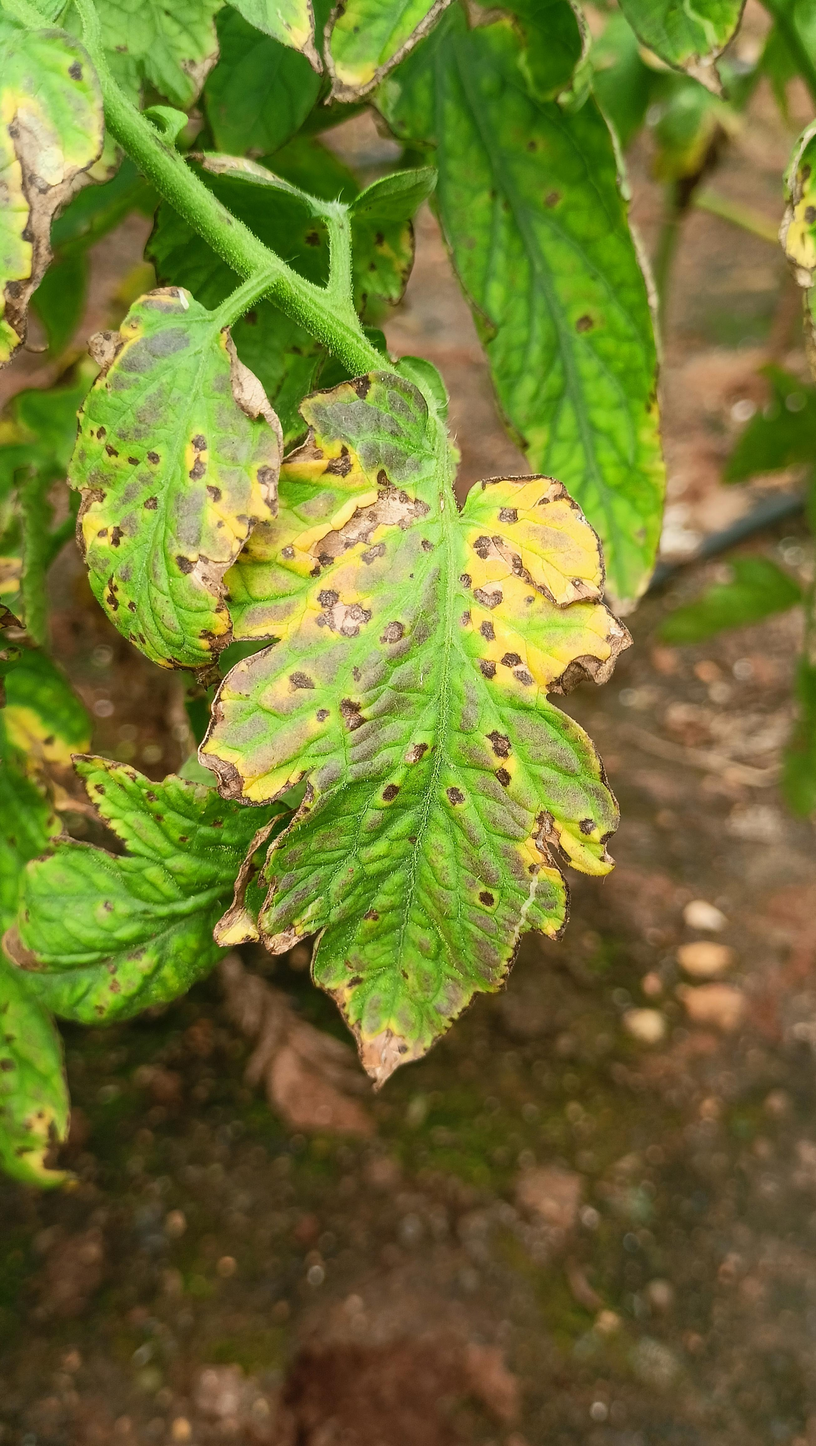Early Blight: (203, 423, 634, 1093), (55, 274, 292, 707), (0, 740, 234, 1051)
